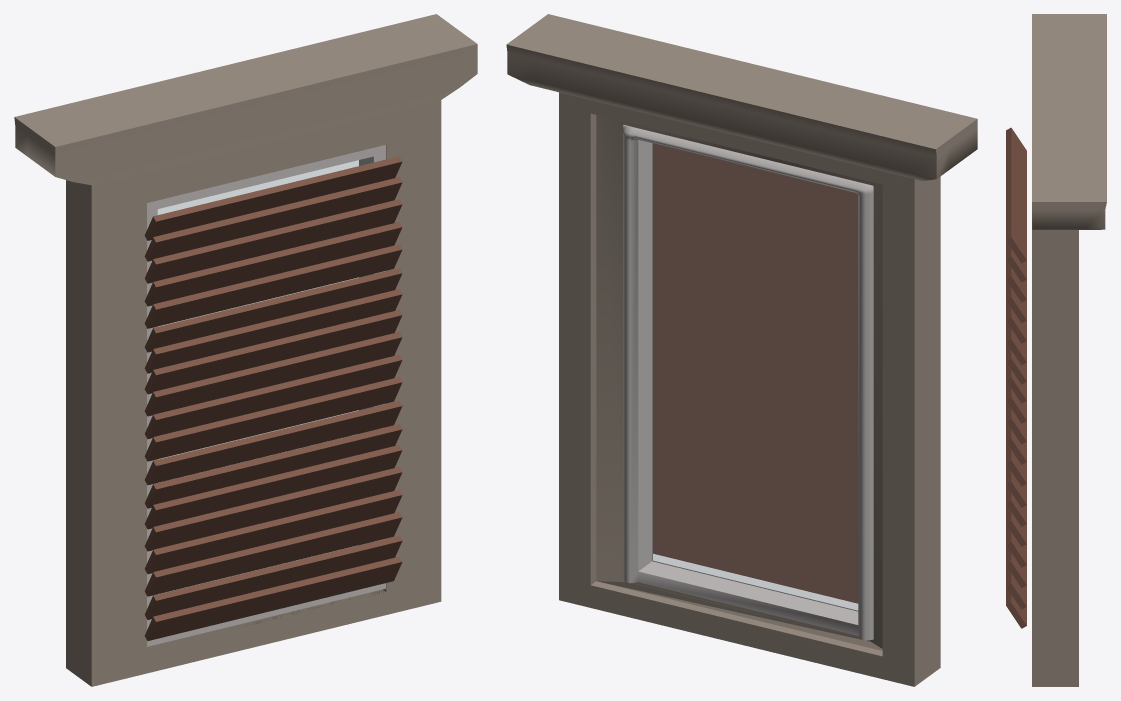
Rendered from window.fbx.
The picture shows the model from 3 angles, left to right: view 1: azimuth 30°, elevation 25°; view 2: azimuth 150°, elevation 25°; view 3: azimuth 270°, elevation 25°; orthographic projection. The views are drawn at different scales.
Parts seen in each view (by area): view 1: pCube49, pCube30, pCube35, pCube47, pCube36, pCube45, pCube28, pCube32, pCube38, pCube43, pCube31, pCube37 (+9 smaller); view 2: pCube49, pCube28, pCube35, pCube29, pCube46, pCube41, pCube44, pCube37, pCube31, pCube30, pCube36, pCube45 (+9 smaller); view 3: pCube49, pCube34, pCube35, pCube29, pCube46, pCube41, pCube37, pCube44, pCube31, pCube30, pCube45, pCube32 (+8 smaller).
Part boxes in pixels (x1,y1,x2,y2): pCube49: (14,14,477,686); pCube30: (144,244,402,328); pCube35: (145,400,402,485); pCube47: (144,556,402,640); pCube36: (144,377,402,461); pCube45: (144,512,402,596); pCube28: (147,145,385,646); pCube32: (144,199,402,283); pCube38: (144,332,402,416); pCube43: (144,467,402,551); pCube31: (144,222,402,306); pCube37: (145,354,402,439); pCube49: (506,14,977,686); pCube28: (623,125,873,640); pCube35: (653,371,858,444); pCube29: (653,236,858,309); pCube46: (653,508,858,581); pCube41: (653,395,858,468); pCube44: (653,462,858,535); pCube37: (653,325,858,398); pCube31: (653,190,858,263); pCube30: (653,213,858,285); pCube36: (653,348,858,420); pCube45: (653,485,858,558); pCube49: (1032,14,1106,686); pCube34: (1006,127,1026,263); pCube35: (1006,442,1026,486); pCube29: (1006,321,1026,365); pCube46: (1006,565,1026,609); pCube41: (1006,464,1026,507); pCube37: (1006,401,1026,444); pCube44: (1006,524,1026,567); pCube31: (1006,280,1026,323); pCube30: (1006,300,1026,343); pCube45: (1006,545,1026,587); pCube32: (1006,259,1026,302).
Bounding box in the file's own units: 8.66 × 10.76 × 1.96.
